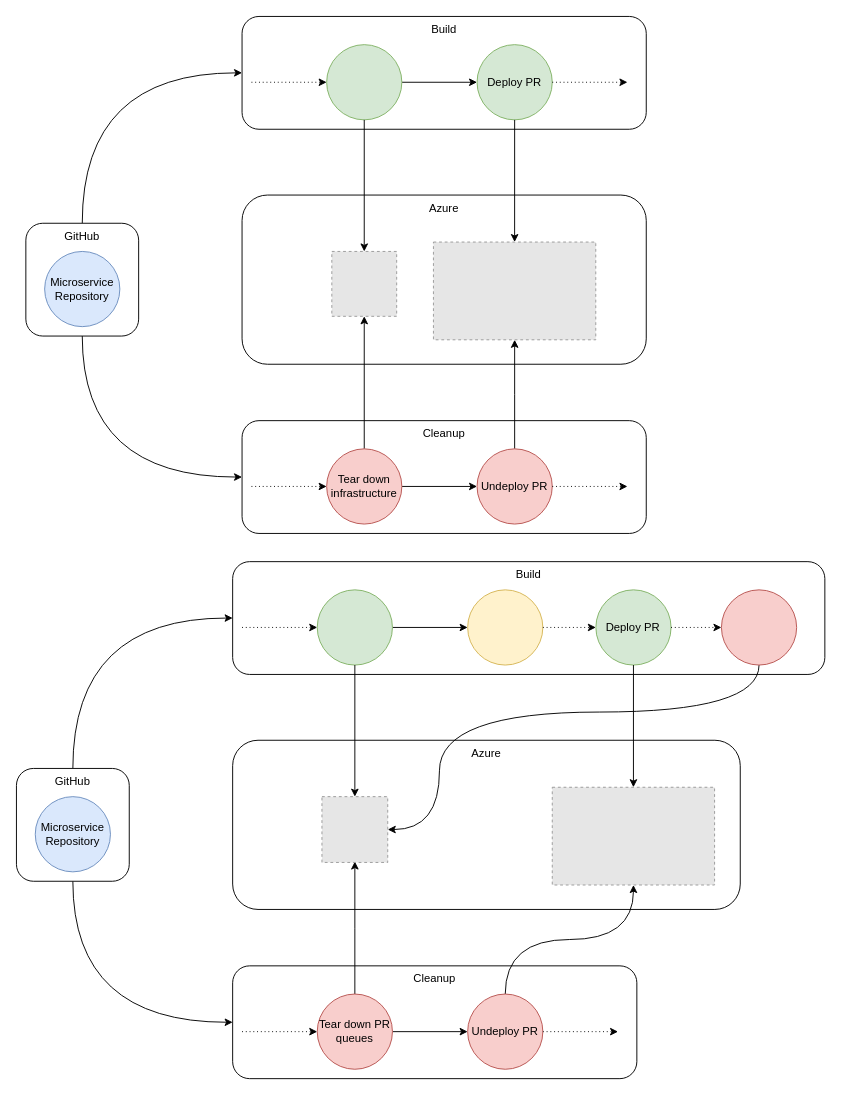
Image size: 841x1095. Some labels were removed from this diagram. Grey dashed boxes stand in for pictures. The shapes that lost their labels are listed below. From the top down, each one's box as (x1, y1, x2, y2) in pixels, then its label:
(326, 44, 402, 120): Provision Infrastructure
(316, 589, 392, 665): Provision Build and PR queues
(467, 589, 543, 665): Run Tests
(721, 589, 797, 665): Tear down Build queues
